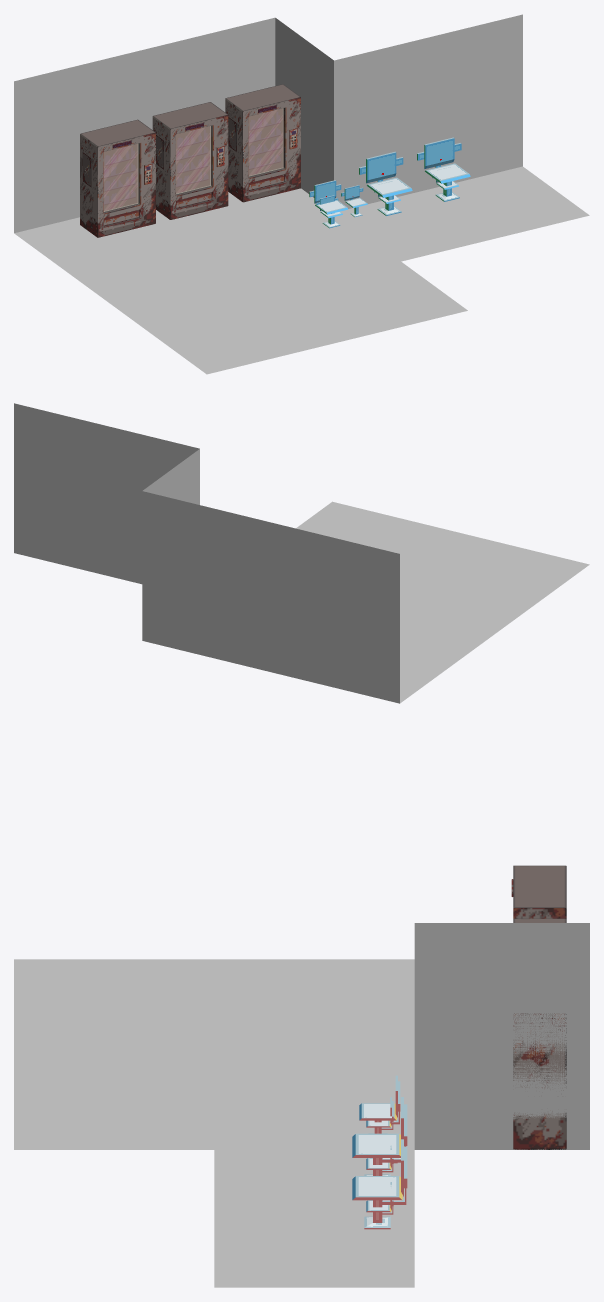
File: TestRoom.obj
3 renders of one model, top to bottom at view 1: azimuth 30°, elevation 25°; view 2: azimuth 150°, elevation 25°; view 3: azimuth 270°, elevation 25°, orthographic. The views are drawn at different scales.
Visible parts, largest first — view 1: Default; view 2: Default; view 3: Default.
Part boxes in pixels (x1,y1,x2,y2): Default: [14, 14, 589, 374]; Default: [14, 403, 589, 703]; Default: [14, 865, 589, 1287].
Size of the model in its own units: 31 by 10 by 23.
